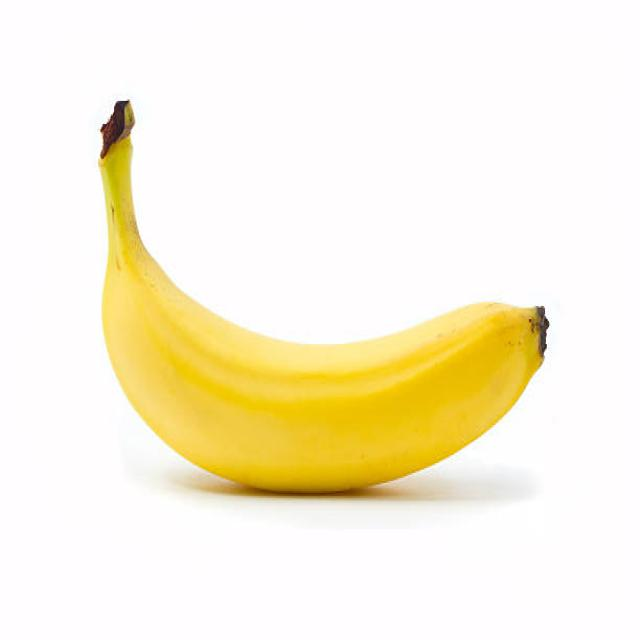banana: (101, 151, 551, 498)
